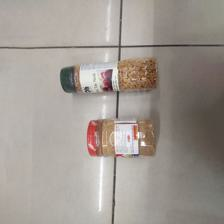Hao_hao: (86, 117, 157, 160)
TayNinh_green: (60, 55, 161, 101)
